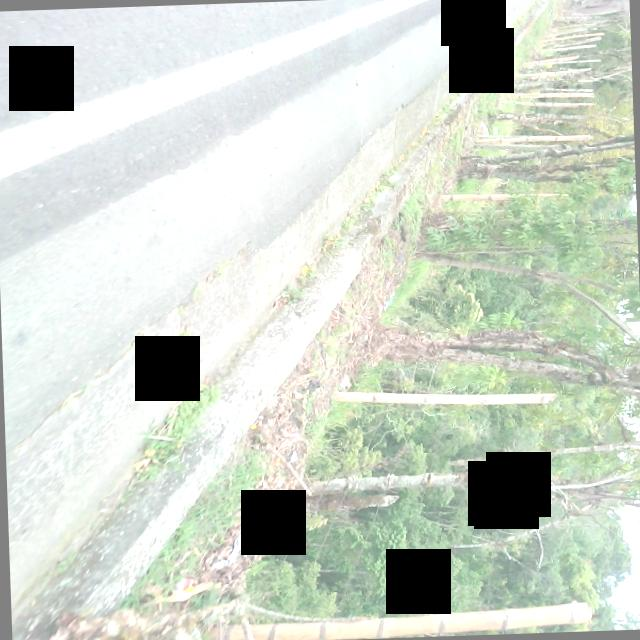DITCH: (0, 0, 613, 640), (0, 0, 578, 640)
